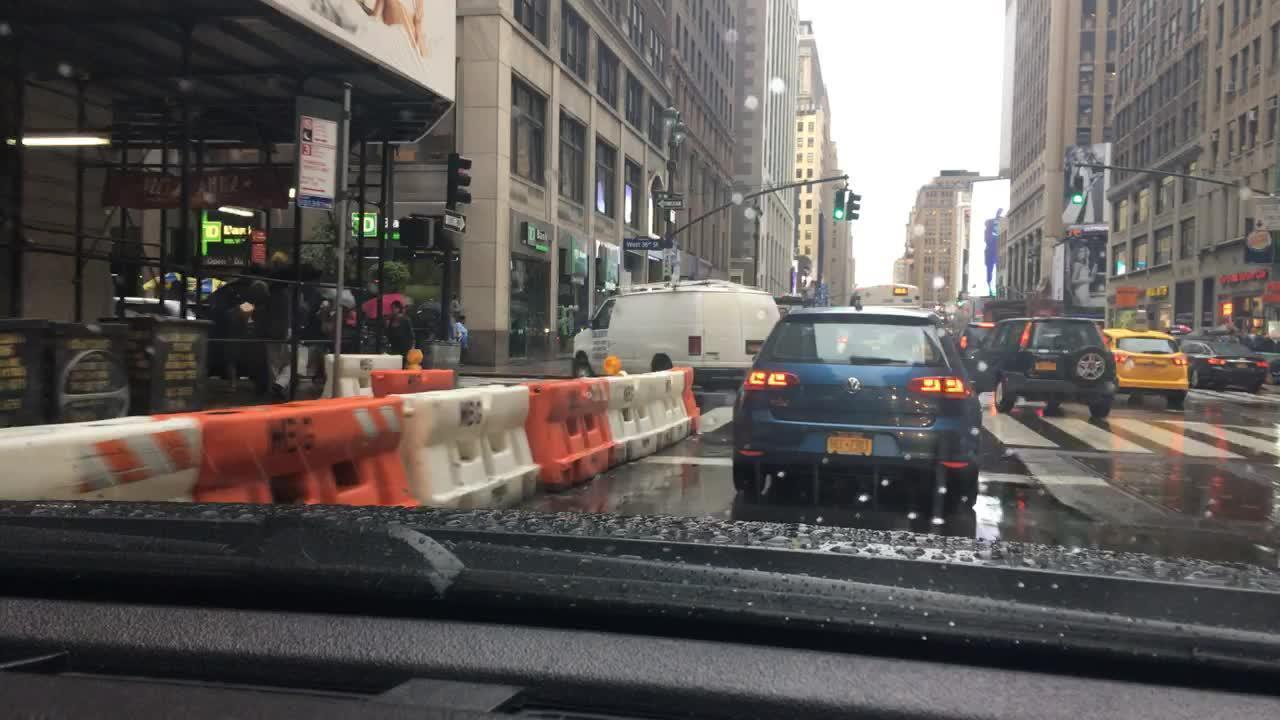Volkswagen: (839, 369, 864, 400)
